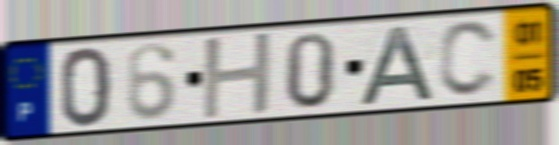0: (58, 44, 114, 130), (281, 30, 339, 111)
6: (124, 40, 180, 124)
A: (355, 23, 440, 109)
C: (436, 17, 501, 100)
H: (200, 29, 276, 123)
